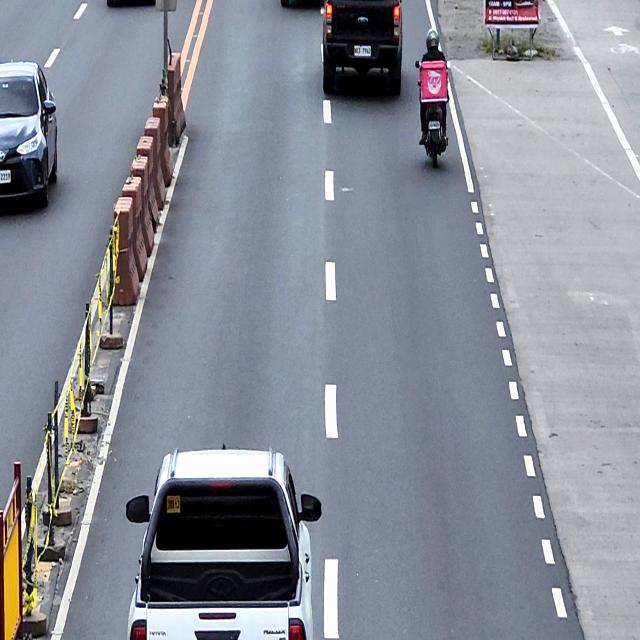Car: (125, 445, 322, 639), (0, 58, 58, 206), (320, 0, 403, 95)
License-Plate: (354, 44, 372, 56), (0, 170, 11, 183), (428, 121, 441, 130)
Motorcycle: (415, 57, 450, 168)
